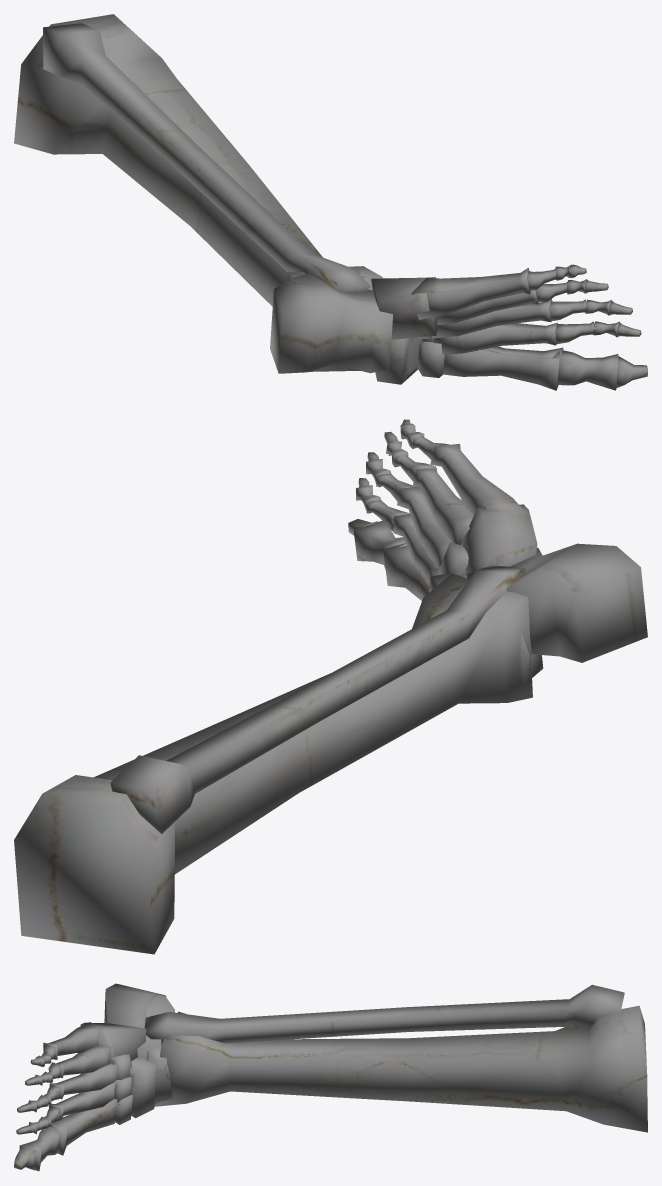
The model's file is Dungeon_Leg.glb.
3 views of the same model, one above another, from view 1: azimuth 30°, elevation 25°; view 2: azimuth 150°, elevation 25°; view 3: azimuth 270°, elevation 25° (orthographic). The views are drawn at different scales.
Visible parts, largest first — view 1: Dungeon_Leg; view 2: Dungeon_Leg; view 3: Dungeon_Leg.
Boxes of the visible parts, x1=… form: Dungeon_Leg: x1=14, y1=14, x2=647, y2=390; Dungeon_Leg: x1=14, y1=419, x2=647, y2=954; Dungeon_Leg: x1=14, y1=983, x2=647, y2=1171.
Size of the model in its own units: 0.3301 by 0.1438 by 0.7463.
Materials: 1 (1 with a texture image).
